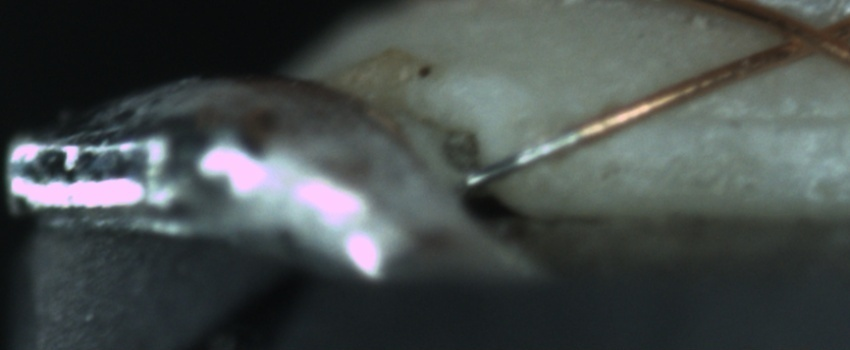CL: (762, 3, 846, 67)
DL: (640, 86, 848, 150)
TS: (460, 127, 579, 190)
